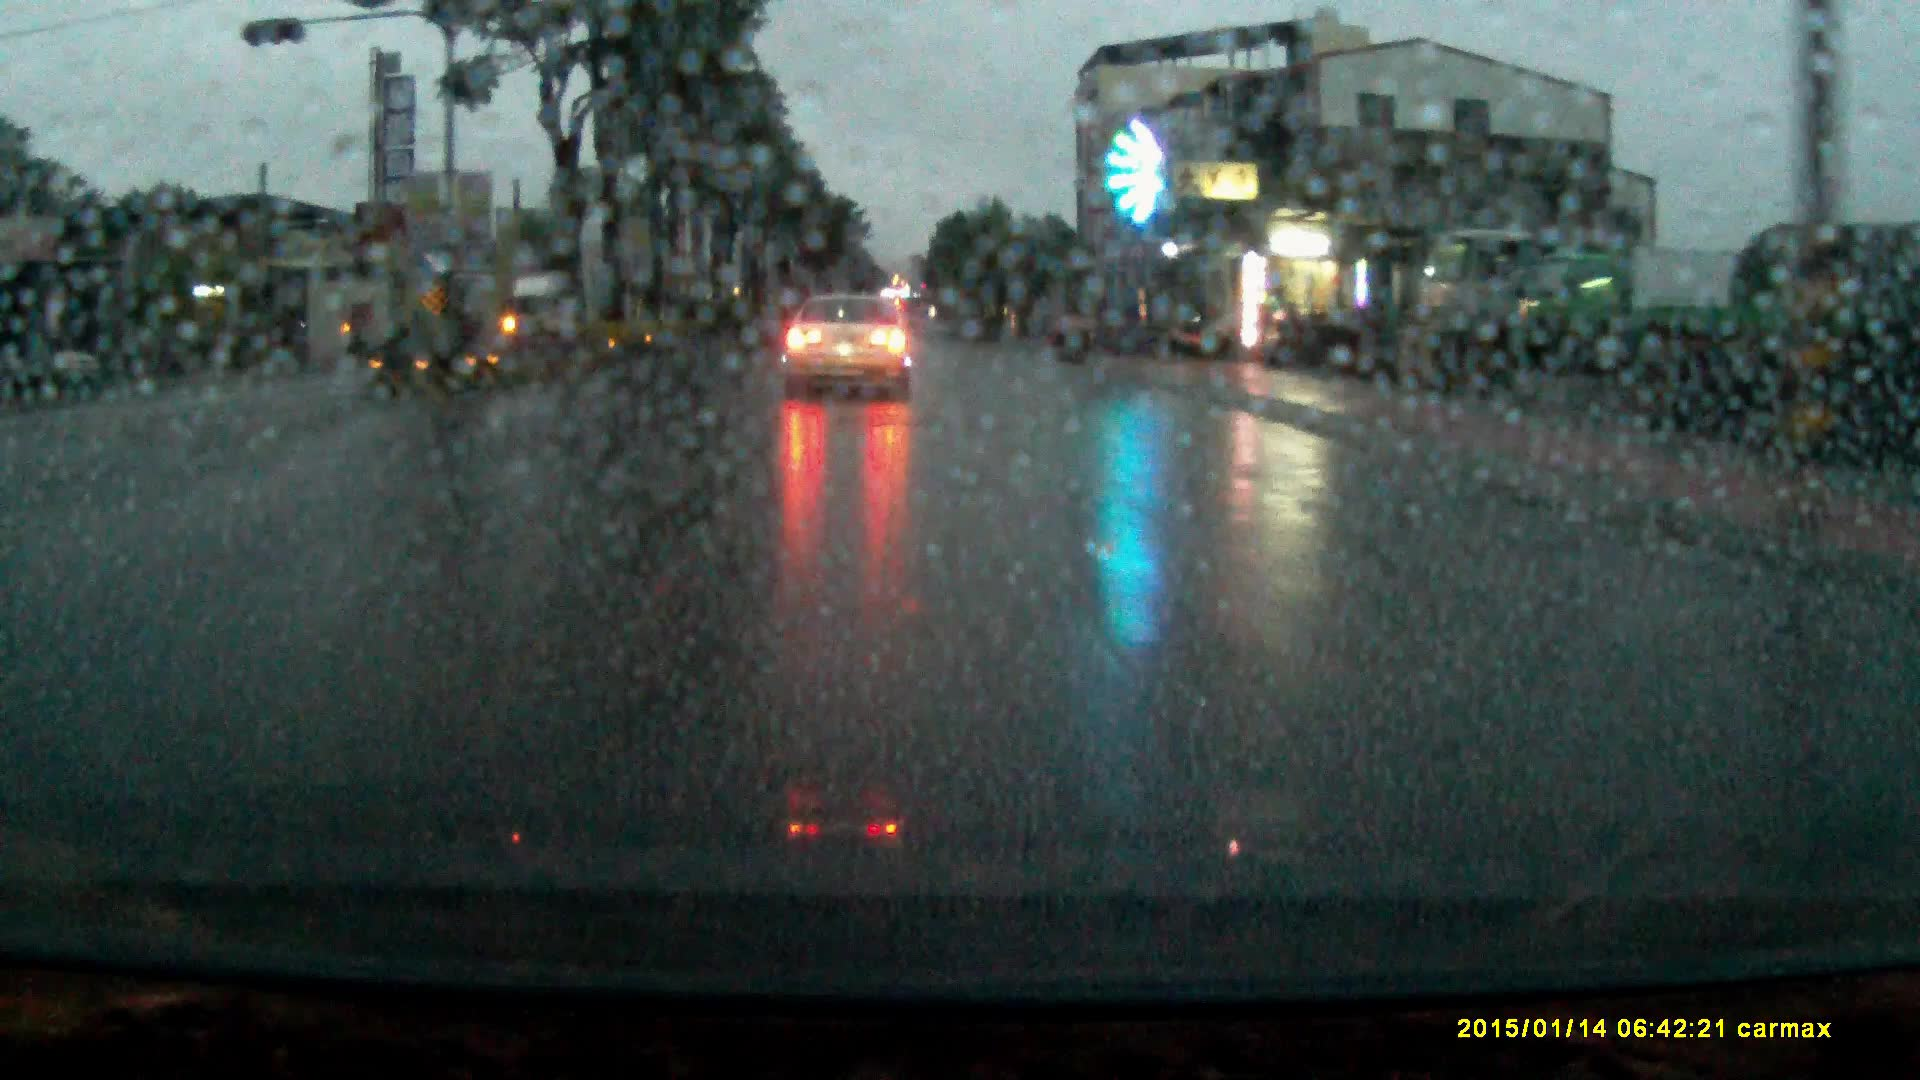vehicle: (1503, 253, 1753, 363), (1425, 229, 1542, 364), (778, 295, 915, 400), (502, 278, 582, 353)
